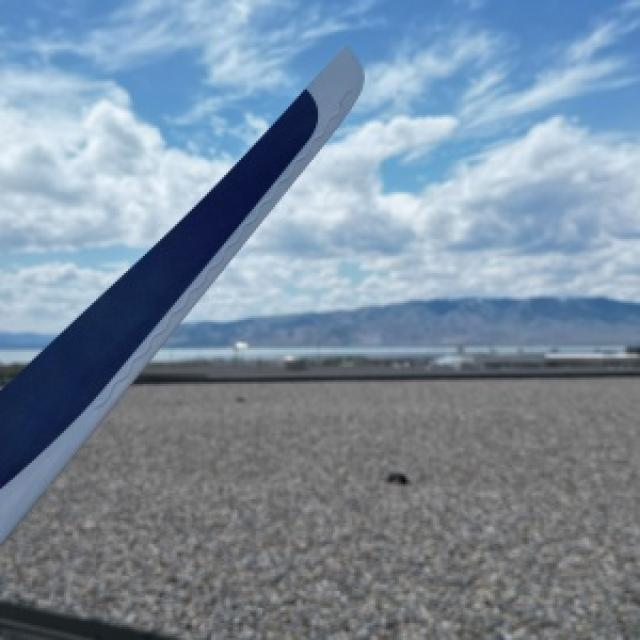healthy: (0, 49, 358, 538)
